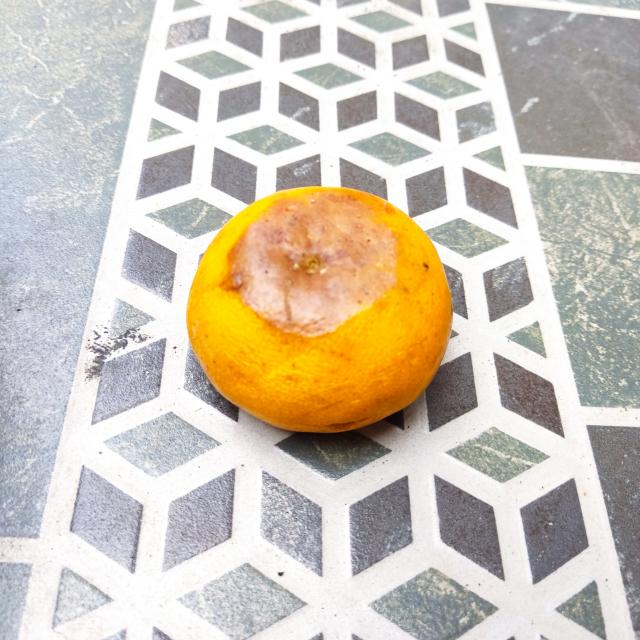orange: (185, 185, 455, 432)
